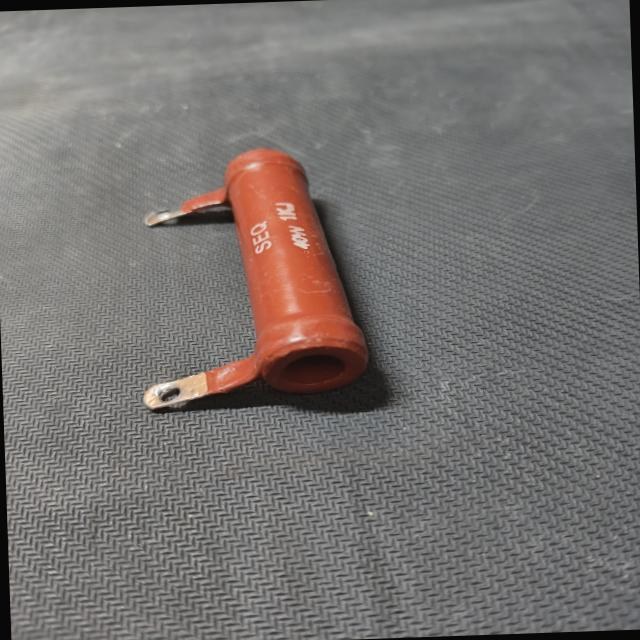resistor: (123, 134, 391, 422)
